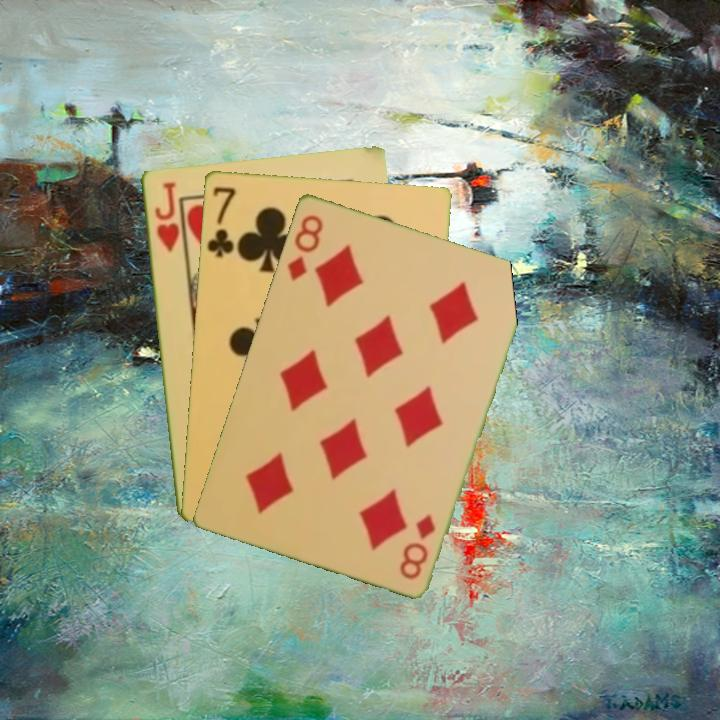7c: (203, 182, 238, 260)
8d: (283, 210, 326, 284), (395, 510, 438, 582)
Jh: (151, 178, 182, 255)
